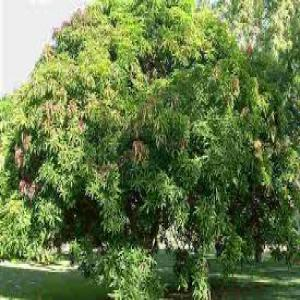Tree: (11, 4, 292, 288)
